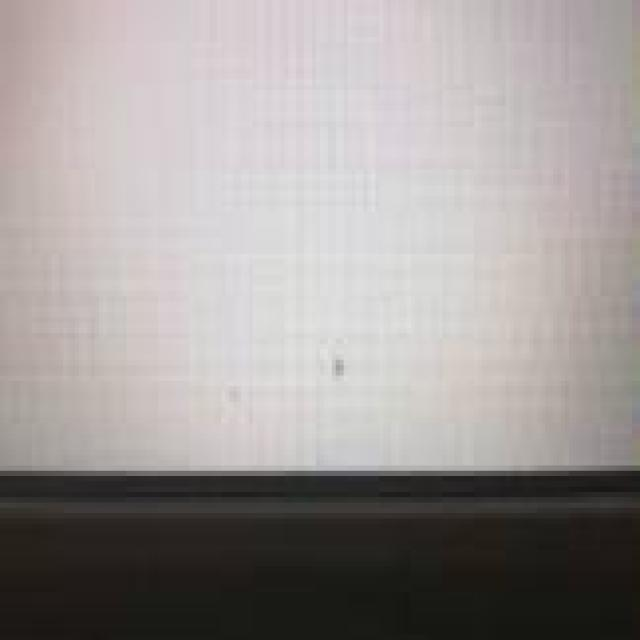dead_pixel: (328, 347, 349, 388)
